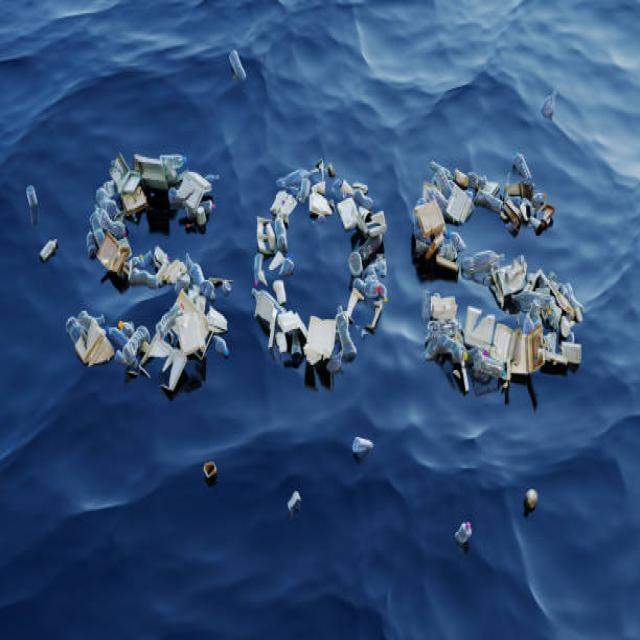plastic: (89, 168, 213, 380), (258, 168, 381, 366)
